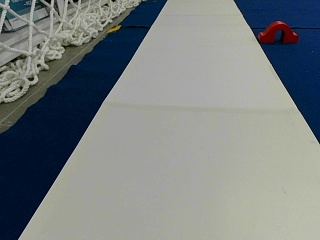bridge: (259, 21, 298, 42)
